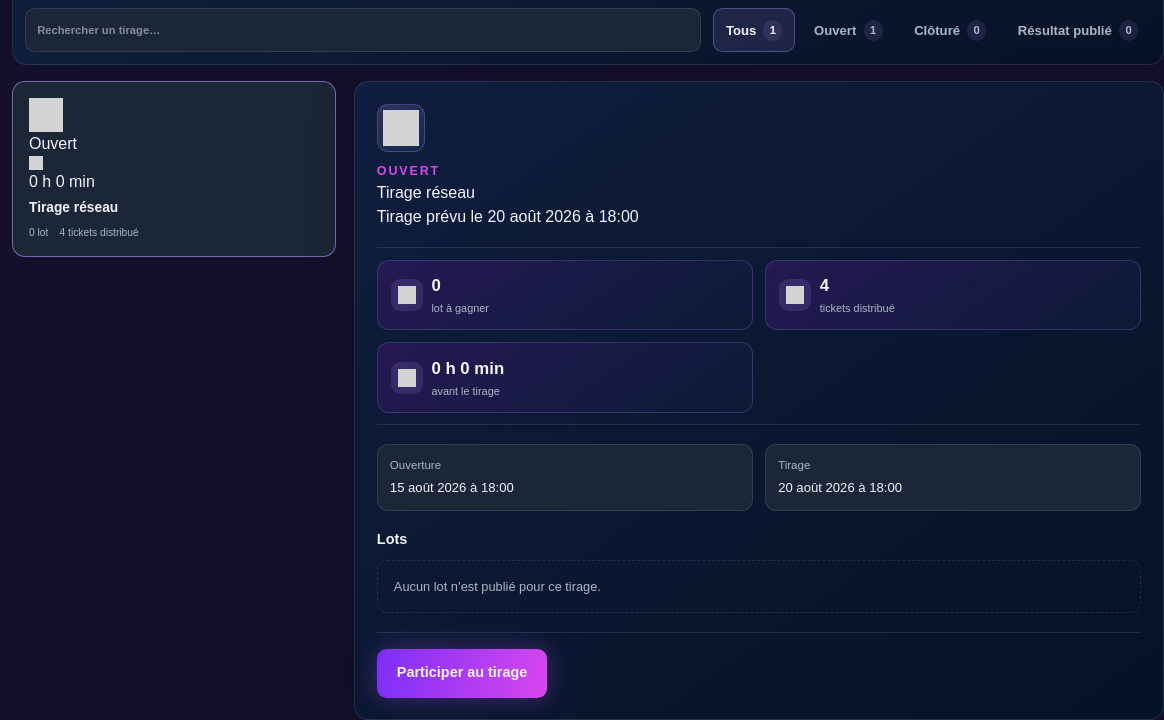
Test case: ListeTirages › affiche le message de repli quand la participation échoue sur le réseau
(page scrolled)
Step 1. Click the button "Participer au tirage" → (462, 673), box [377,649,547,698]
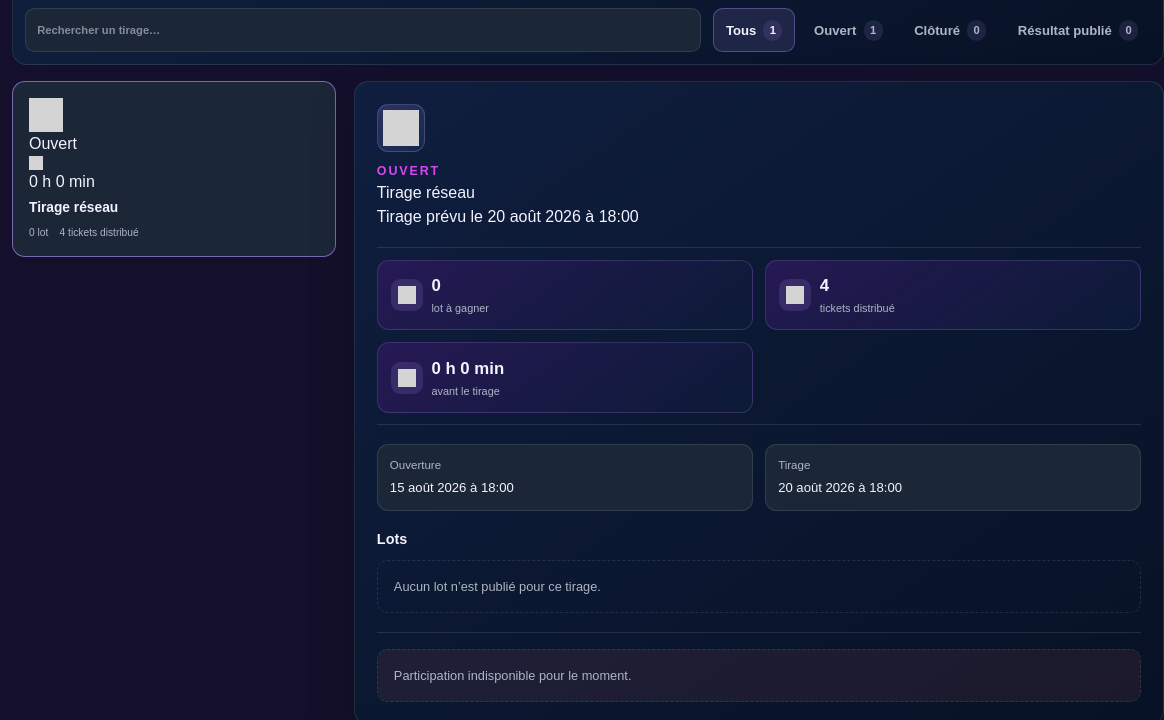
Now the text "Participation indisponible pour le moment." is shown, box [377,649,1141,702]
